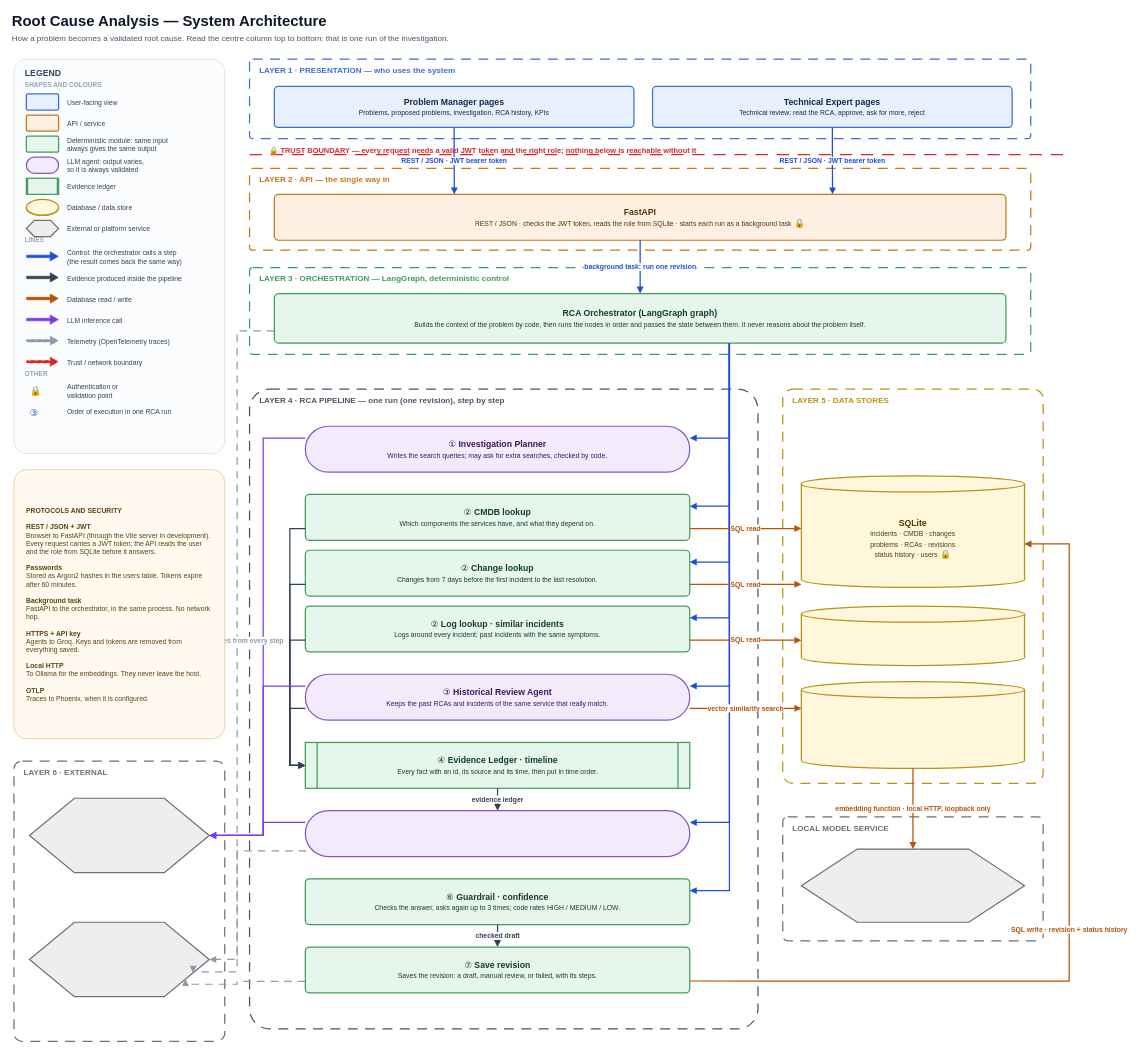
Some shapes in this 1138 by 1052 pixel diagram are drawn without their labels. The shapes that lost their labels are listed below. From the top down, each one's centre as x and y in pixels, then its label:
the point at 912,635: Logs log lines, a table of the same SQLite file
the point at 912,725: ChromaDB vector index of past incidents and sections of past RCAs
the point at 119,835: Groq API gpt-oss-120b, open-weight model fallback models optional
the point at 497,833: ⑤ RCA Reasoning Agent Reads only the ledger and proposes candidate root causes.
the point at 912,885: Ollama nomic-embed-text runs on the same host
the point at 119,959: Arize Phoenix traces of every run, tool and model call
